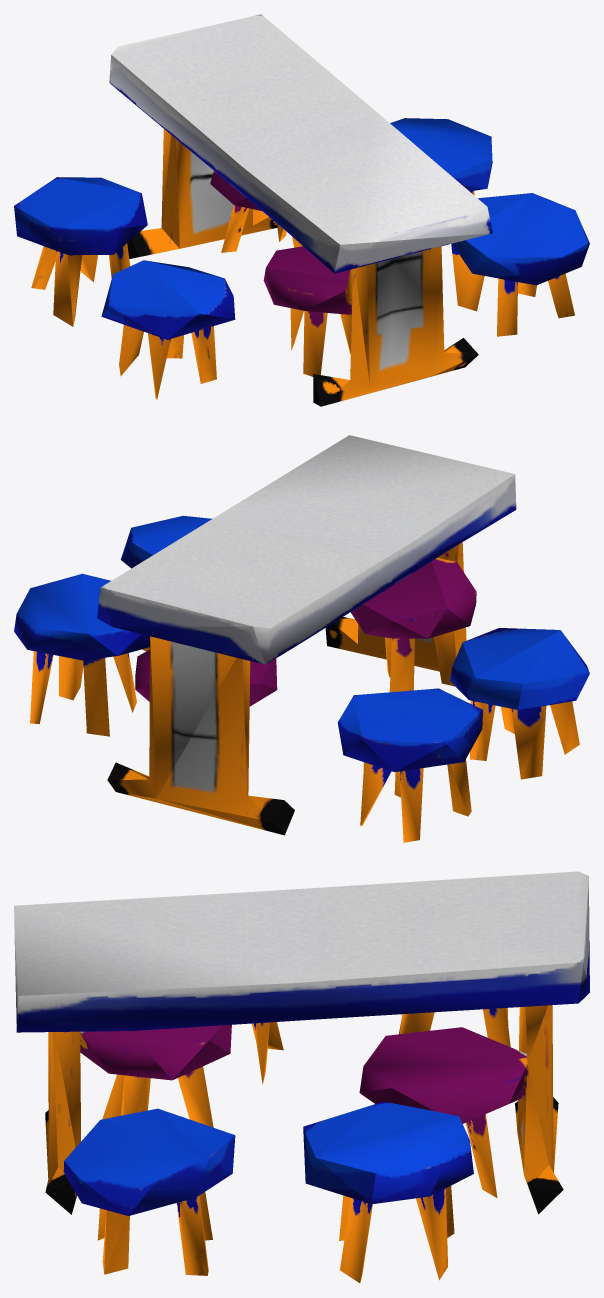
Rendered from cafeteria-table.glb.
The picture shows the model from 3 angles, top to bottom: view 1: azimuth 30°, elevation 25°; view 2: azimuth 150°, elevation 25°; view 3: azimuth 270°, elevation 25°; orthographic projection. The views are drawn at different scales.
Visible parts, largest first — view 1: geometry_0.001; view 2: geometry_0.001; view 3: geometry_0.001.
Part boxes in pixels (left/top/right/bottom): geometry_0.001: left=14, top=14, right=589, bottom=406; geometry_0.001: left=14, top=435, right=589, bottom=842; geometry_0.001: left=14, top=871, right=589, bottom=1283.
Bounding box in the file's own units: 1.01 × 0.4399 × 0.9016.
Materials: 1 (1 with a texture image).
